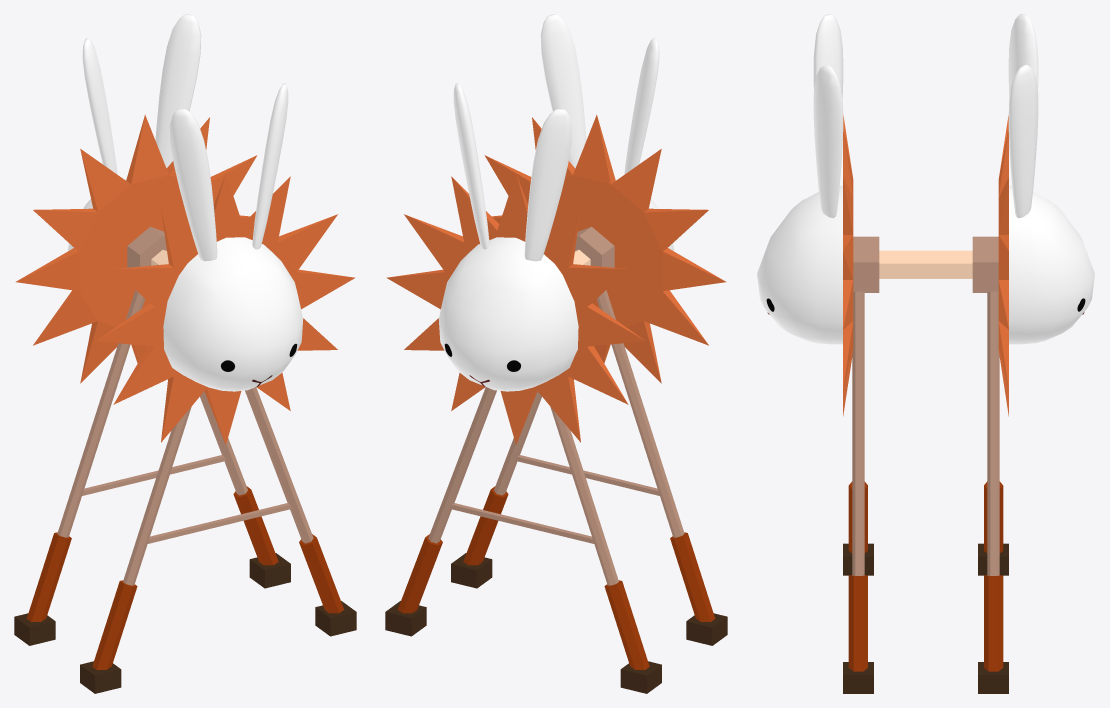
Rendered from Ferris_wheel_base.glb.
3 renders of one model, left to right at view 1: azimuth 30°, elevation 25°; view 2: azimuth 150°, elevation 25°; view 3: azimuth 270°, elevation 25°, orthographic. The views are drawn at different scales.
Visible parts, largest first — view 1: Ferris_wheel_base; view 2: Ferris_wheel_base; view 3: Ferris_wheel_base.
Boxes of the visible parts, left/top/right/bottom form: Ferris_wheel_base: left=14, top=14, right=356, bottom=693; Ferris_wheel_base: left=385, top=14, right=727, bottom=693; Ferris_wheel_base: left=757, top=14, right=1094, bottom=693.
Bounding box in the file's own units: 29.94 × 62.41 × 32.66.
2 materials, 2 textured.
